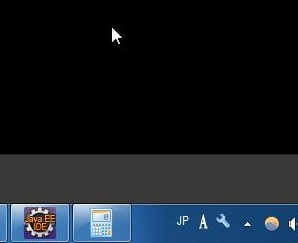cursor: (109, 25, 123, 45)
